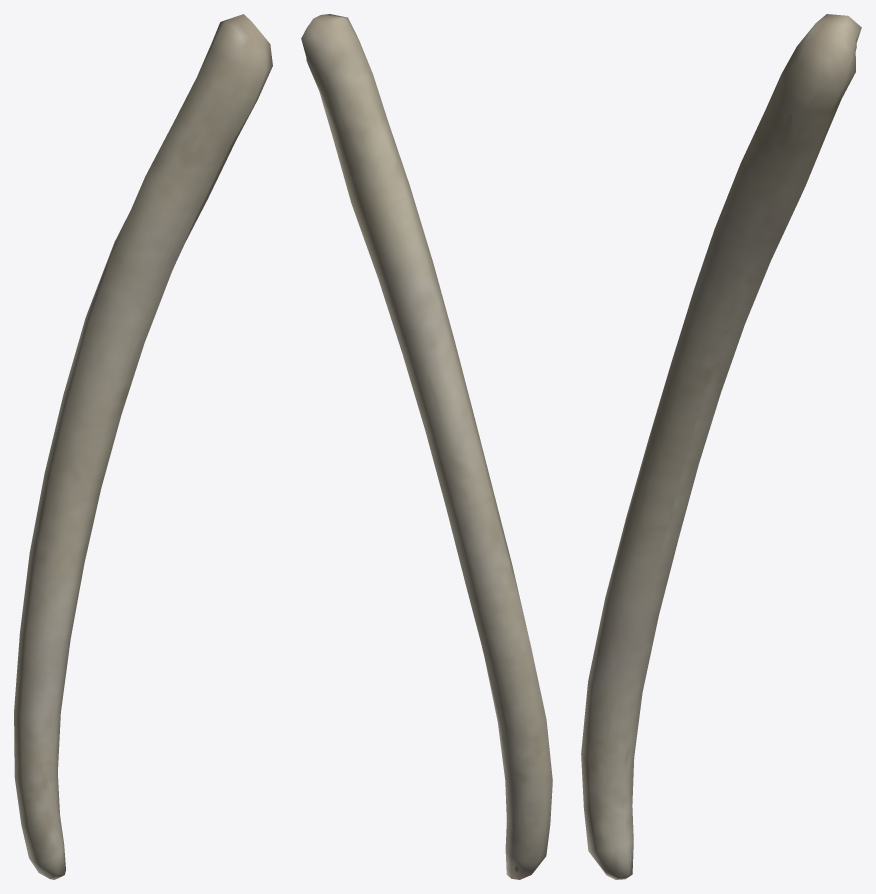
File: Rib R02.fbx
3 renders of one model, left to right at view 1: azimuth 30°, elevation 25°; view 2: azimuth 150°, elevation 25°; view 3: azimuth 330°, elevation 25°, orthographic. The views are drawn at different scales.
Parts seen in each view (by area): view 1: Rib R02 low, Rib R02; view 2: Rib R02 low, Rib R02; view 3: Rib R02 low, Rib R02.
Boxes of the visible parts, x1,y1,x2,y2 form: Rib R02 low: [14, 14, 272, 879]; Rib R02: [20, 30, 250, 847]; Rib R02 low: [301, 14, 552, 879]; Rib R02: [315, 16, 547, 872]; Rib R02 low: [581, 14, 861, 879]; Rib R02: [586, 29, 856, 861].
Size of the model in its own units: 1.56 by 4.97 by 0.5224.
Materials: 1 (1 with a texture image).
